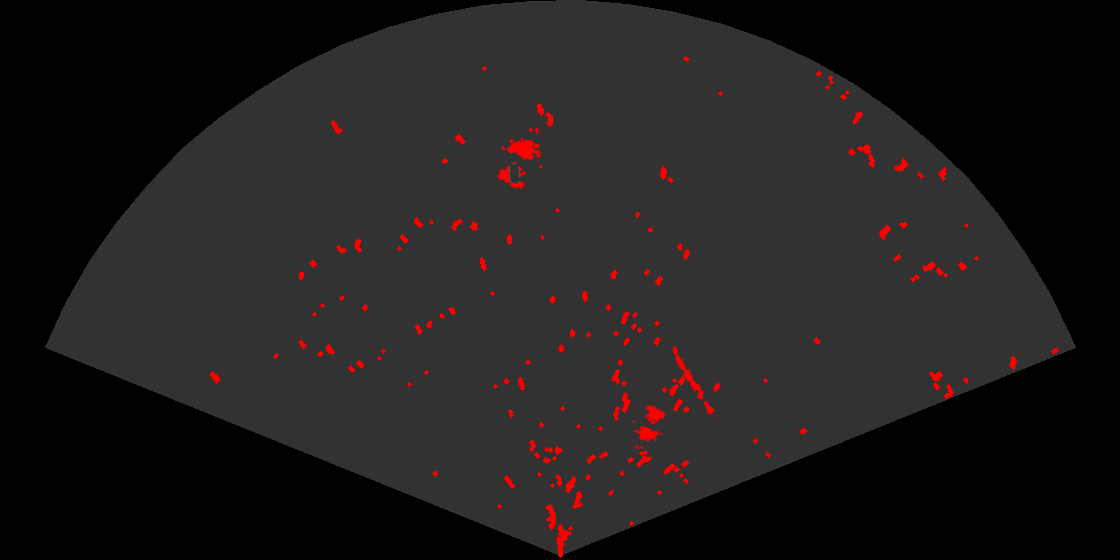cage: (496, 128, 542, 191), (633, 403, 667, 449)
chain: (671, 344, 720, 423)
